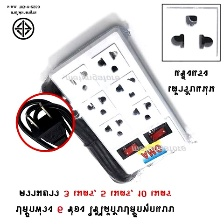three_eye_plug: (47, 22, 193, 177), (161, 4, 220, 60)
